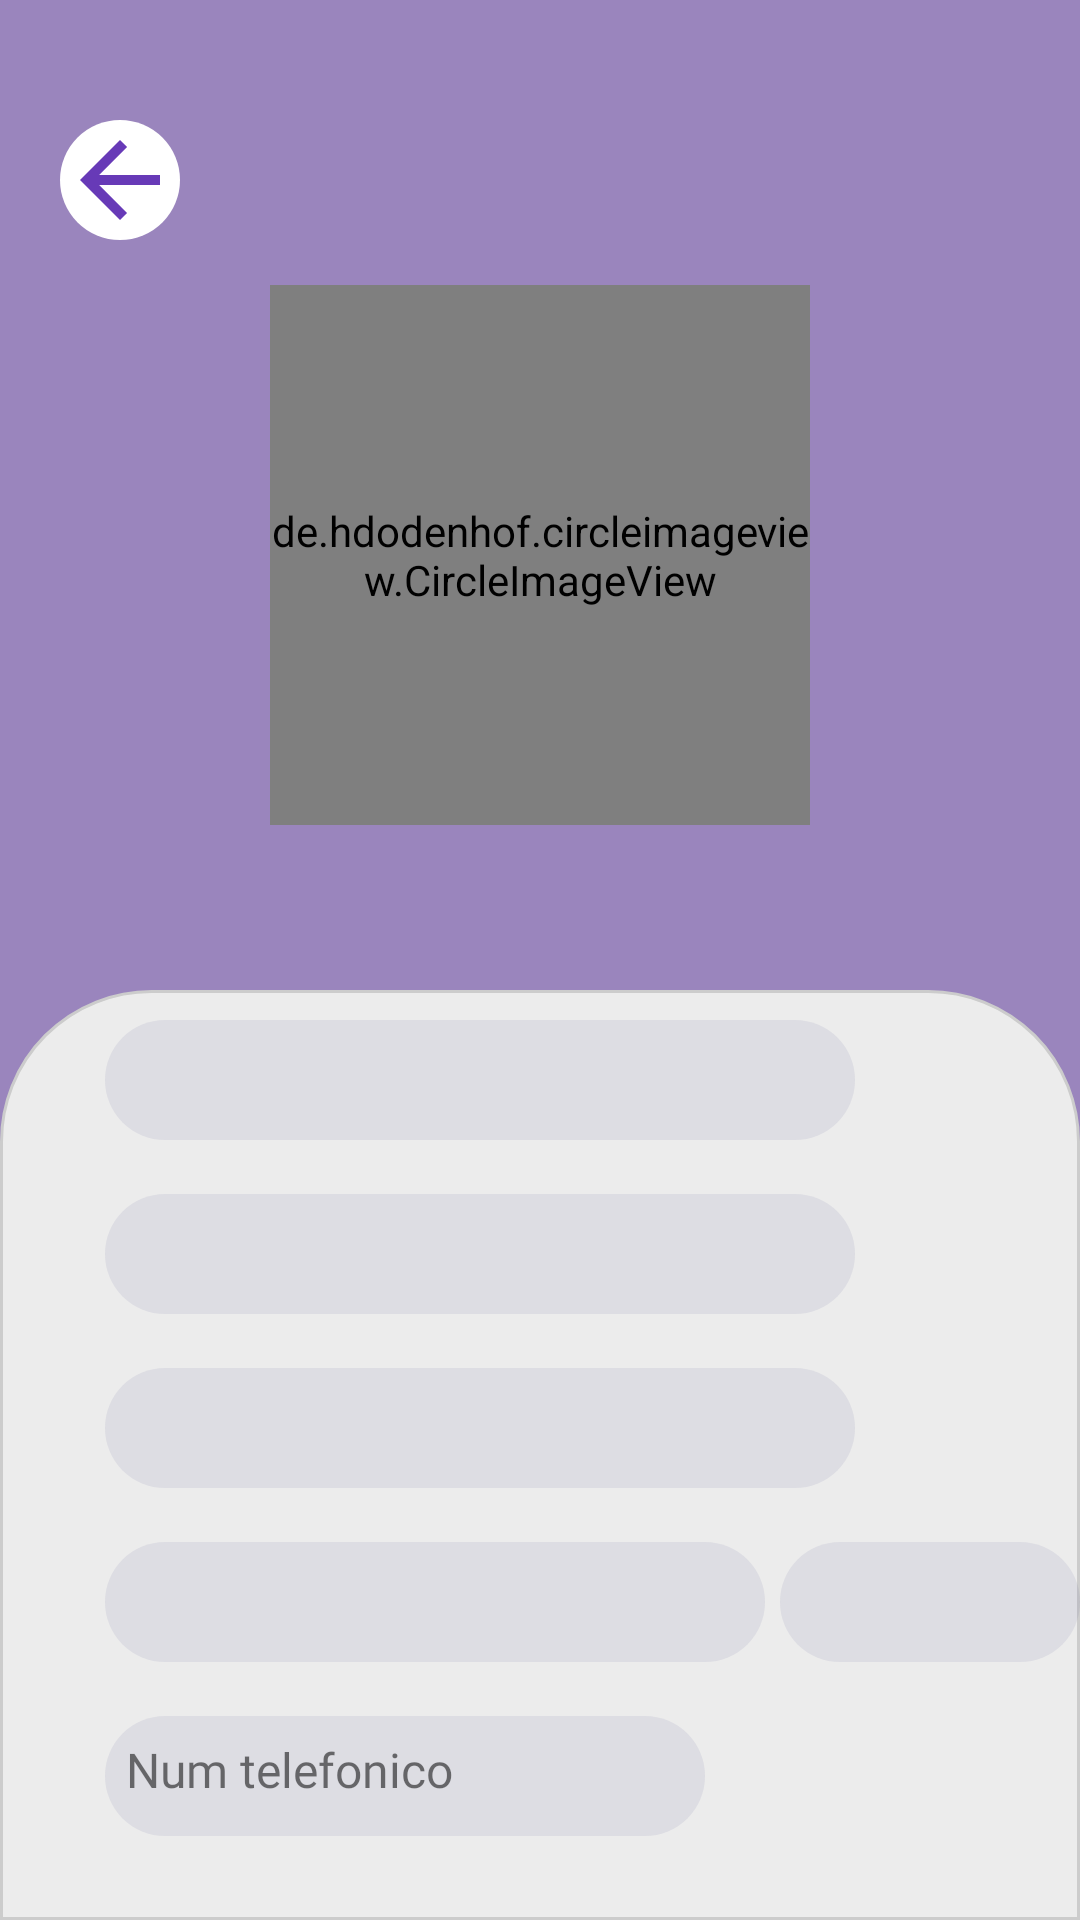

Icons on this 1080×1920 Android screen, each with its box as bbox(x1, y1, x2, y2):
backarrow: bbox(60, 120, 180, 240)
